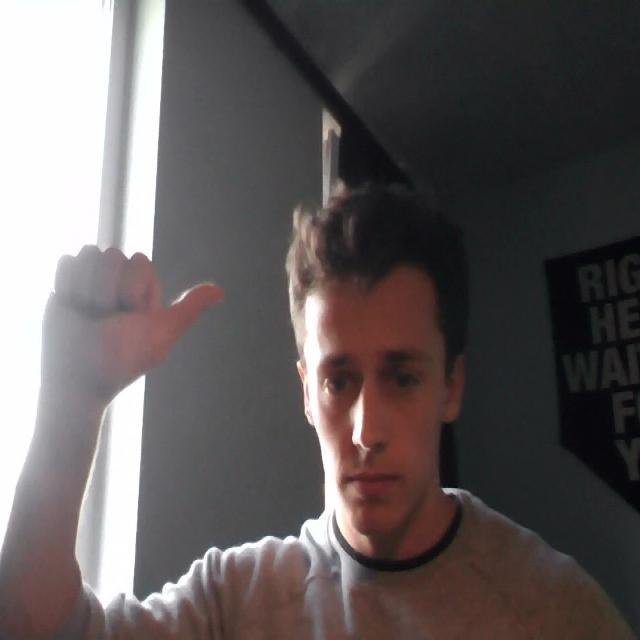right: (29, 235, 234, 425)
